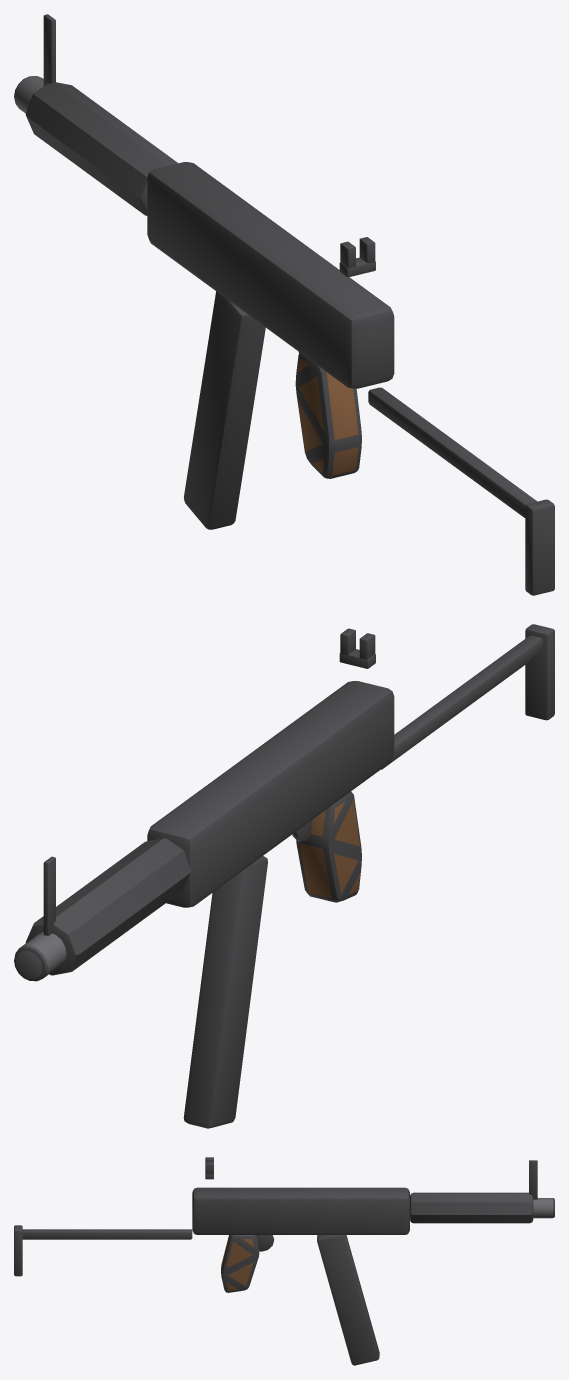
File: pps42.glb
3 views of the same model, one above another, from view 1: azimuth 30°, elevation 25°; view 2: azimuth 150°, elevation 25°; view 3: azimuth 270°, elevation 25° (orthographic). The views are drawn at different scales.
Parts seen in each view (by area): view 1: pps42_LOD0; view 2: pps42_LOD0; view 3: pps42_LOD0.
Part boxes in pixels (x1=…): pps42_LOD0: x1=14, y1=14, x2=554, y2=595; pps42_LOD0: x1=14, y1=624, x2=554, y2=1128; pps42_LOD0: x1=14, y1=1157, x2=554, y2=1365.
Size of the model in its own units: 0.0448 by 0.3077 by 0.746.
